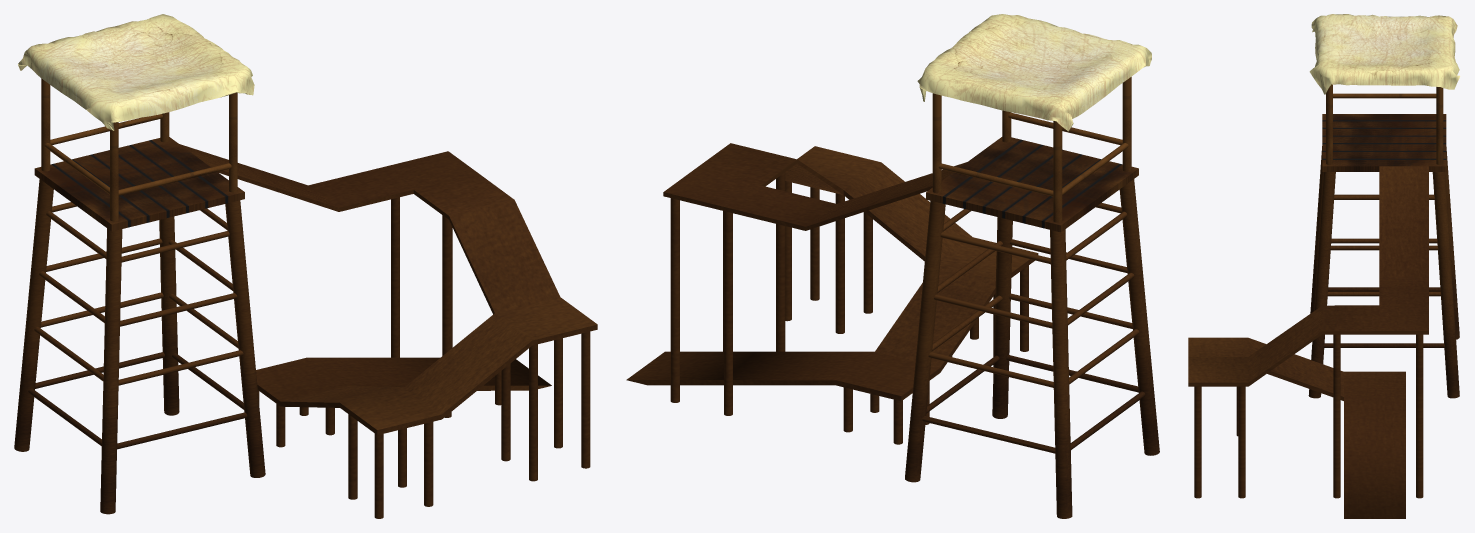
File: Watch_tower.FBX
3 views of the same model, side by side, from view 1: azimuth 30°, elevation 25°; view 2: azimuth 150°, elevation 25°; view 3: azimuth 270°, elevation 25° (orthographic). The views are drawn at different scales.
Visible parts, largest first — view 1: Stairs, Tower_Bottom, Line01, Tower_top; view 2: Stairs, Tower_Bottom, Line01, Tower_top; view 3: Stairs, Line01, Tower_Bottom, Tower_top.
Boxes of the visible parts, box(x1,y1,x2,y2) form: Stairs: box(179, 144, 597, 518); Tower_Bottom: box(14, 179, 265, 514); Line01: box(18, 14, 254, 130); Tower_top: box(34, 78, 244, 231); Stairs: box(626, 143, 1038, 444); Tower_Bottom: box(905, 179, 1159, 518); Line01: box(917, 14, 1151, 131); Tower_top: box(926, 77, 1138, 232); Stairs: box(1188, 166, 1428, 518); Line01: box(1309, 14, 1460, 94); Tower_Bottom: box(1308, 146, 1459, 398); Tower_top: box(1322, 84, 1446, 171).
Bounding box in the file's own units: 353 × 220 × 289.
